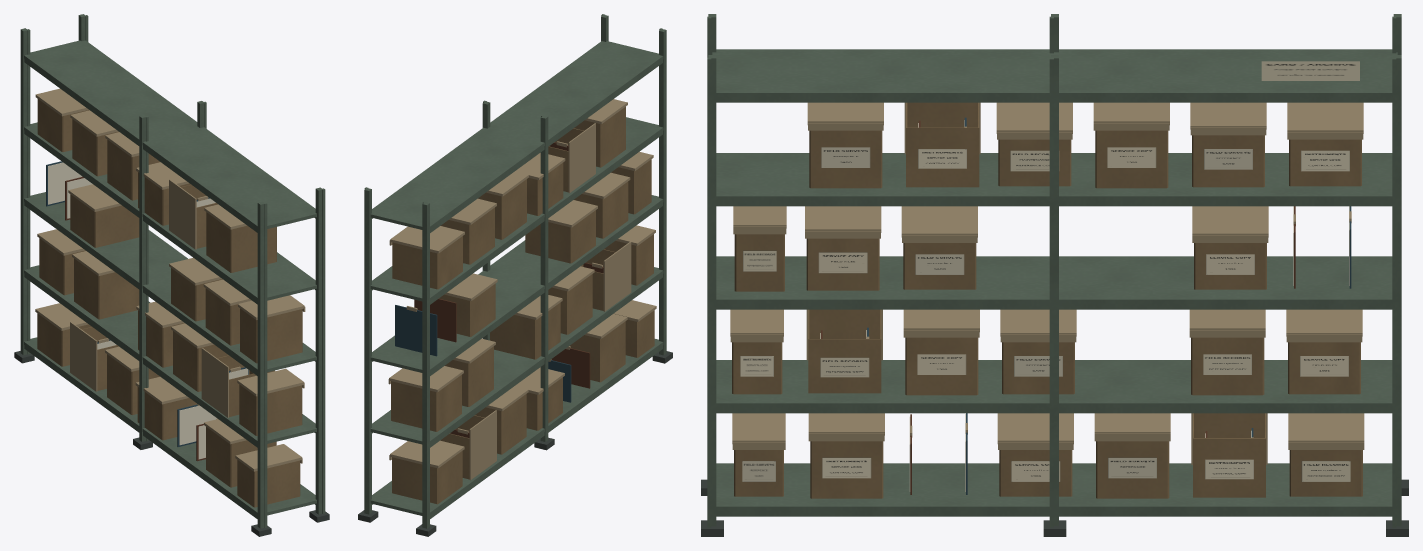
Rendered from SM_ArchiveProps_ShelvingStorage_LOD2.glb.
3 views of the same model, side by side, from view 1: azimuth 30°, elevation 25°; view 2: azimuth 150°, elevation 25°; view 3: azimuth 270°, elevation 25° (orthographic). The views are drawn at different scales.
Visible parts, largest first — view 1: SM_ArchiveProps_ShelvingStorage_LOD2; view 2: SM_ArchiveProps_ShelvingStorage_LOD2; view 3: SM_ArchiveProps_ShelvingStorage_LOD2.
Part boxes in pixels (box(x1,y1,x2,y2)): SM_ArchiveProps_ShelvingStorage_LOD2: box(14, 14, 329, 536); SM_ArchiveProps_ShelvingStorage_LOD2: box(358, 14, 672, 536); SM_ArchiveProps_ShelvingStorage_LOD2: box(701, 14, 1408, 536).
Bounding box in the file's own units: 0.514 × 2.3 × 3.1.
Materials: 8 (3 with a texture image).
